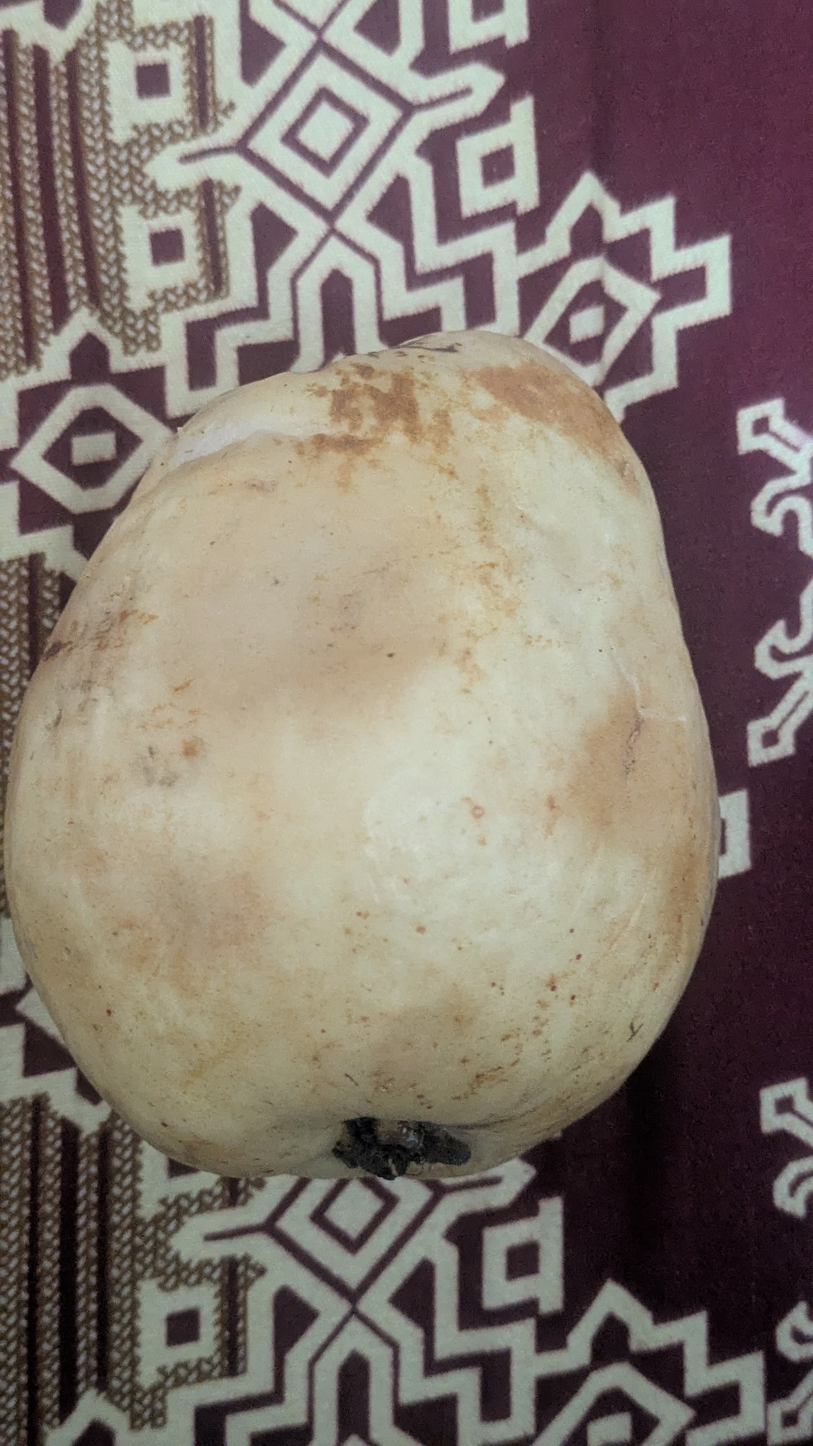guava: (107, 231, 773, 1370)
